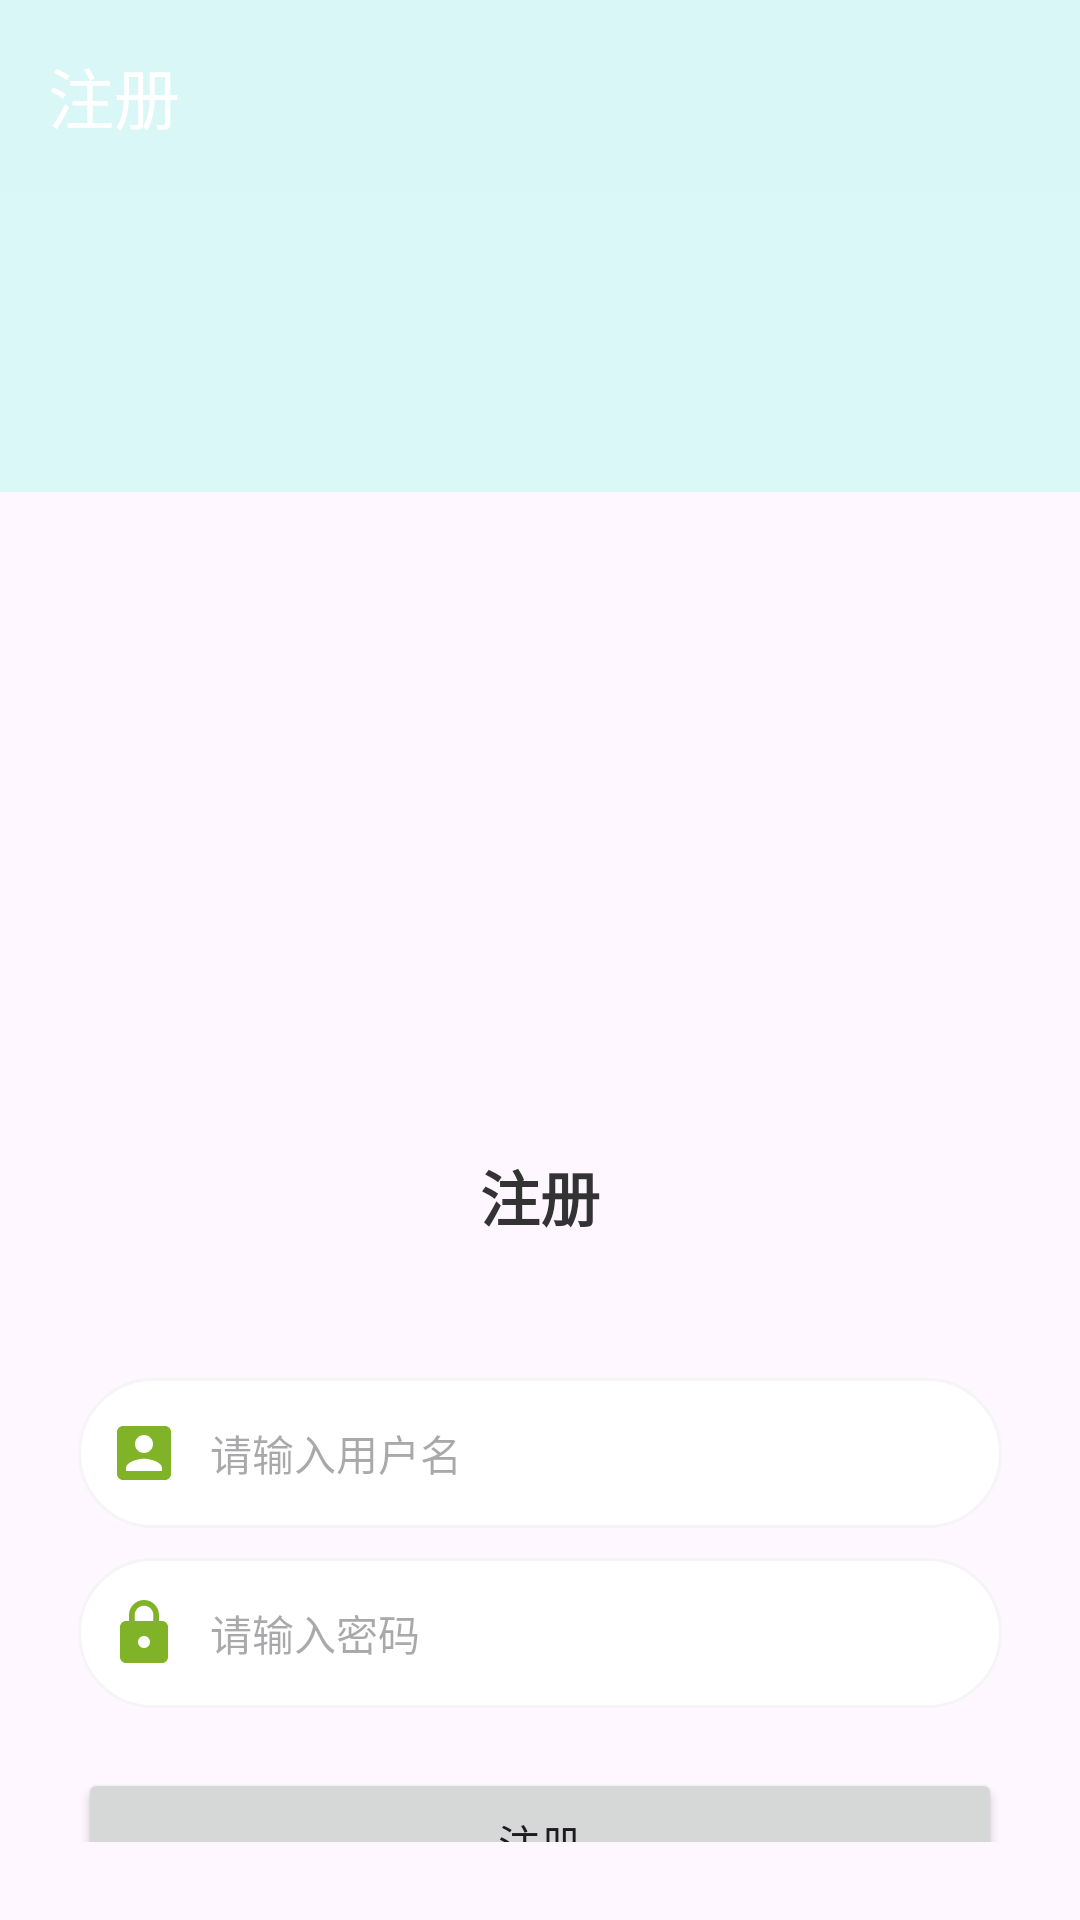

Where to tap for icons on this 1080px x 1920px app screen, as point (x, y):
account box: point (144, 1453)
